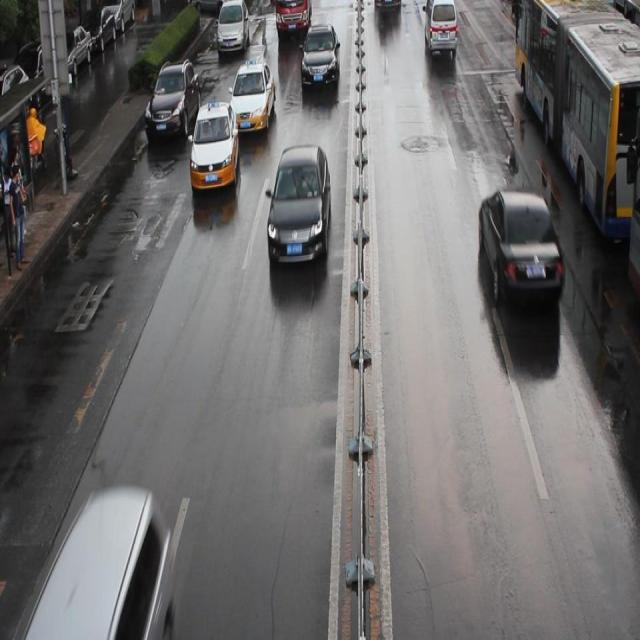bus: (274, 1, 312, 32)
car: (478, 188, 564, 303), (266, 144, 332, 266), (145, 60, 202, 138), (189, 101, 238, 188), (228, 59, 276, 135), (300, 23, 340, 87), (216, 1, 251, 54), (191, 1, 234, 12)
truck: (26, 486, 178, 640), (424, 1, 457, 54)
van: (512, 1, 640, 240), (624, 126, 640, 296)
